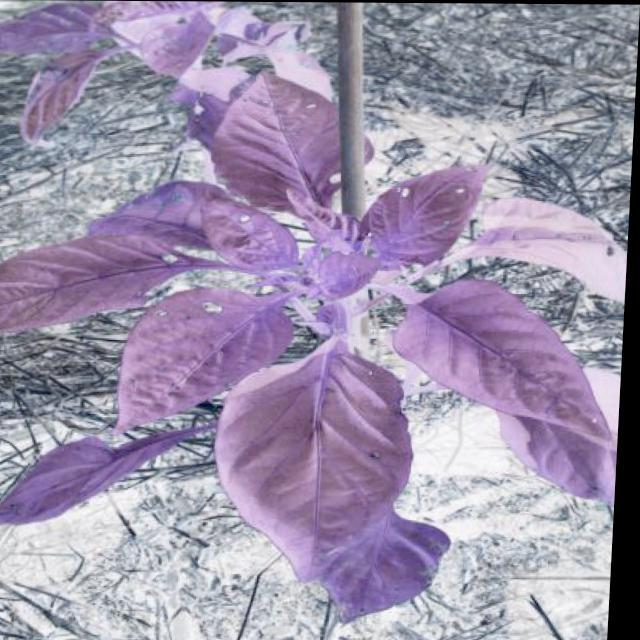Tomato bacterial spot leaf: (96, 154, 431, 278), (290, 259, 533, 424), (292, 57, 536, 202), (445, 2, 610, 154), (166, 2, 337, 148), (546, 248, 628, 330), (621, 133, 633, 237)
